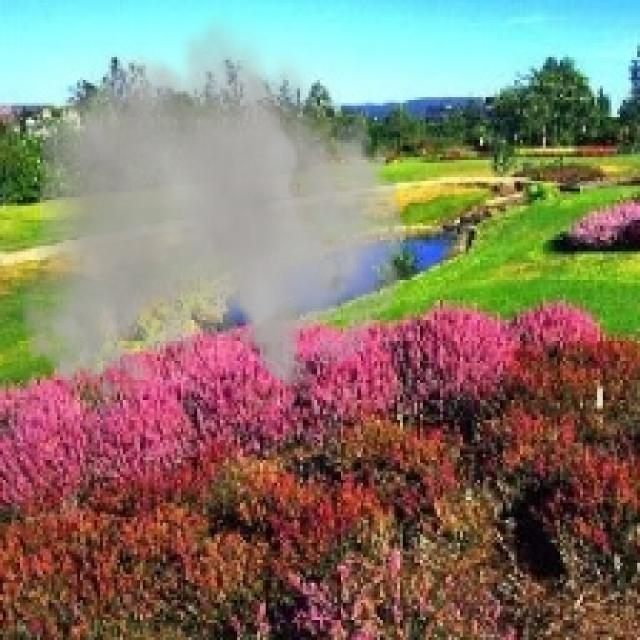smoke: (20, 6, 403, 400)
